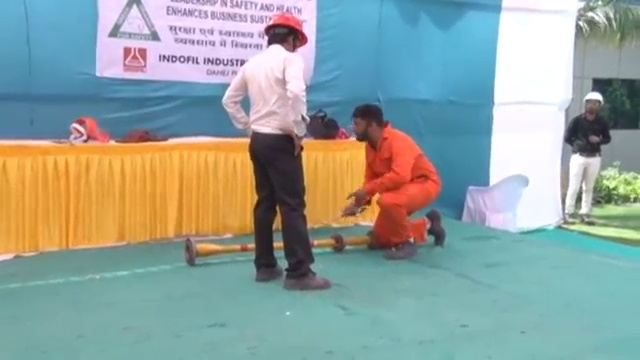helmet: (263, 11, 310, 47), (584, 91, 603, 105)
helmet_off: (351, 105, 385, 143)
helmet_on: (258, 11, 308, 54), (580, 90, 604, 121)
person: (217, 10, 332, 288), (342, 104, 446, 260), (565, 90, 611, 226)
